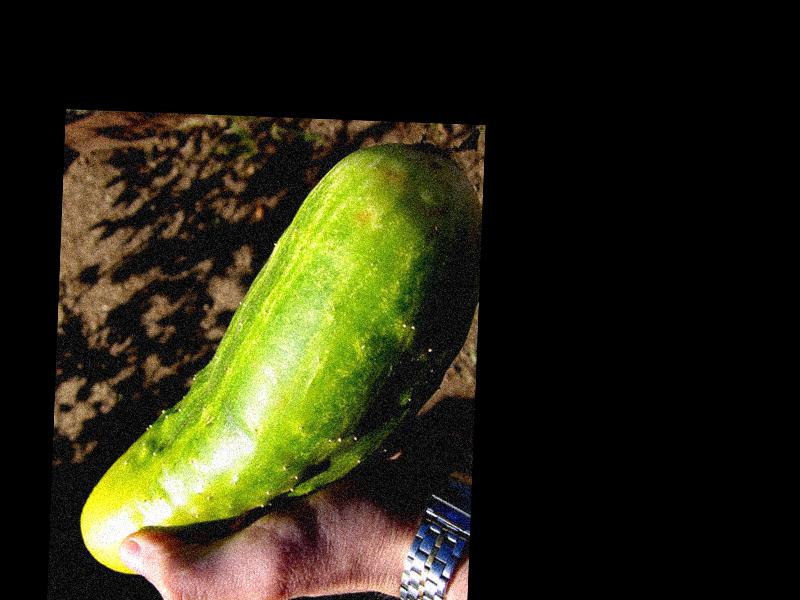Cucumber: (79, 130, 485, 587)
